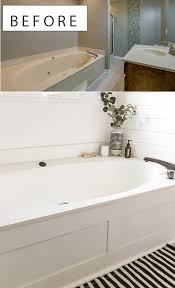bathub: (2, 153, 175, 288)
